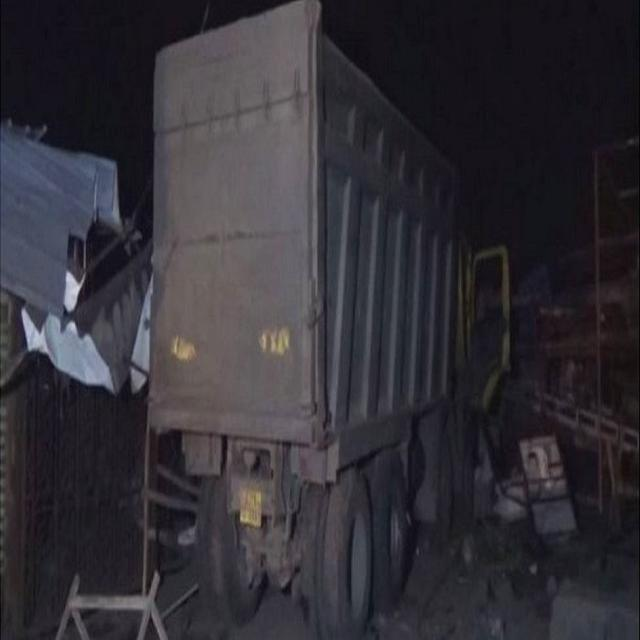truck: (144, 2, 509, 637)
